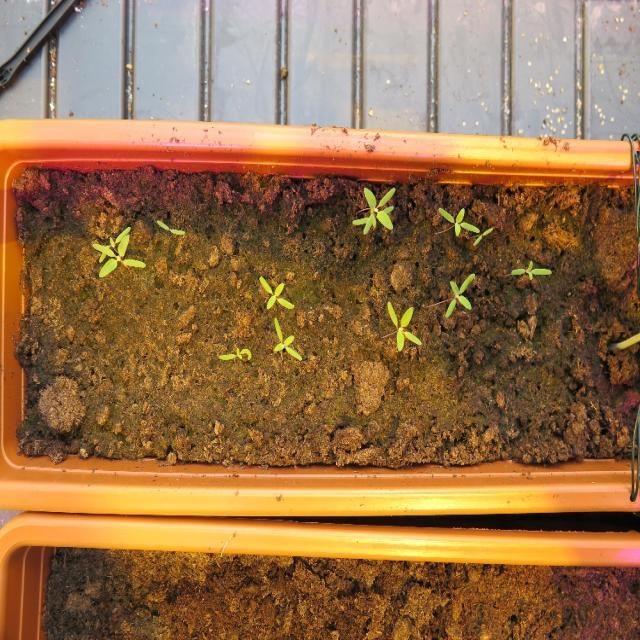weed: (386, 300, 422, 352), (443, 270, 475, 318), (258, 273, 294, 309), (272, 316, 301, 360), (510, 259, 551, 279), (217, 343, 251, 361), (155, 218, 185, 235)
